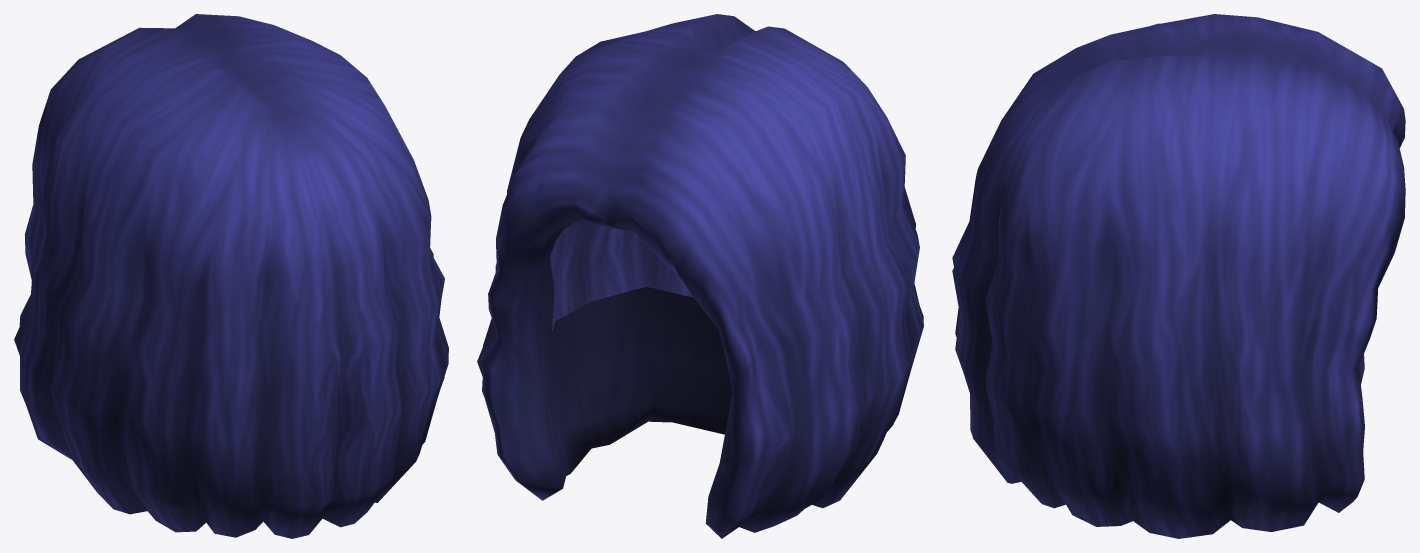
Rendered from Hair_Female_006_textured_blue.glb.
The picture shows the model from 3 angles, left to right: view 1: azimuth 30°, elevation 25°; view 2: azimuth 150°, elevation 25°; view 3: azimuth 270°, elevation 25°; orthographic projection. The views are drawn at different scales.
Visible parts, largest first — view 1: Hair_Female_006; view 2: Hair_Female_006; view 3: Hair_Female_006.
Part boxes in pixels (box(x1,y1,x2,y2)): Hair_Female_006: box(14, 14, 448, 538); Hair_Female_006: box(477, 14, 923, 538); Hair_Female_006: box(952, 14, 1405, 538).
Bounding box in the file's own units: 0.2471 × 0.277 × 0.2597.
1 material, 1 textured.
